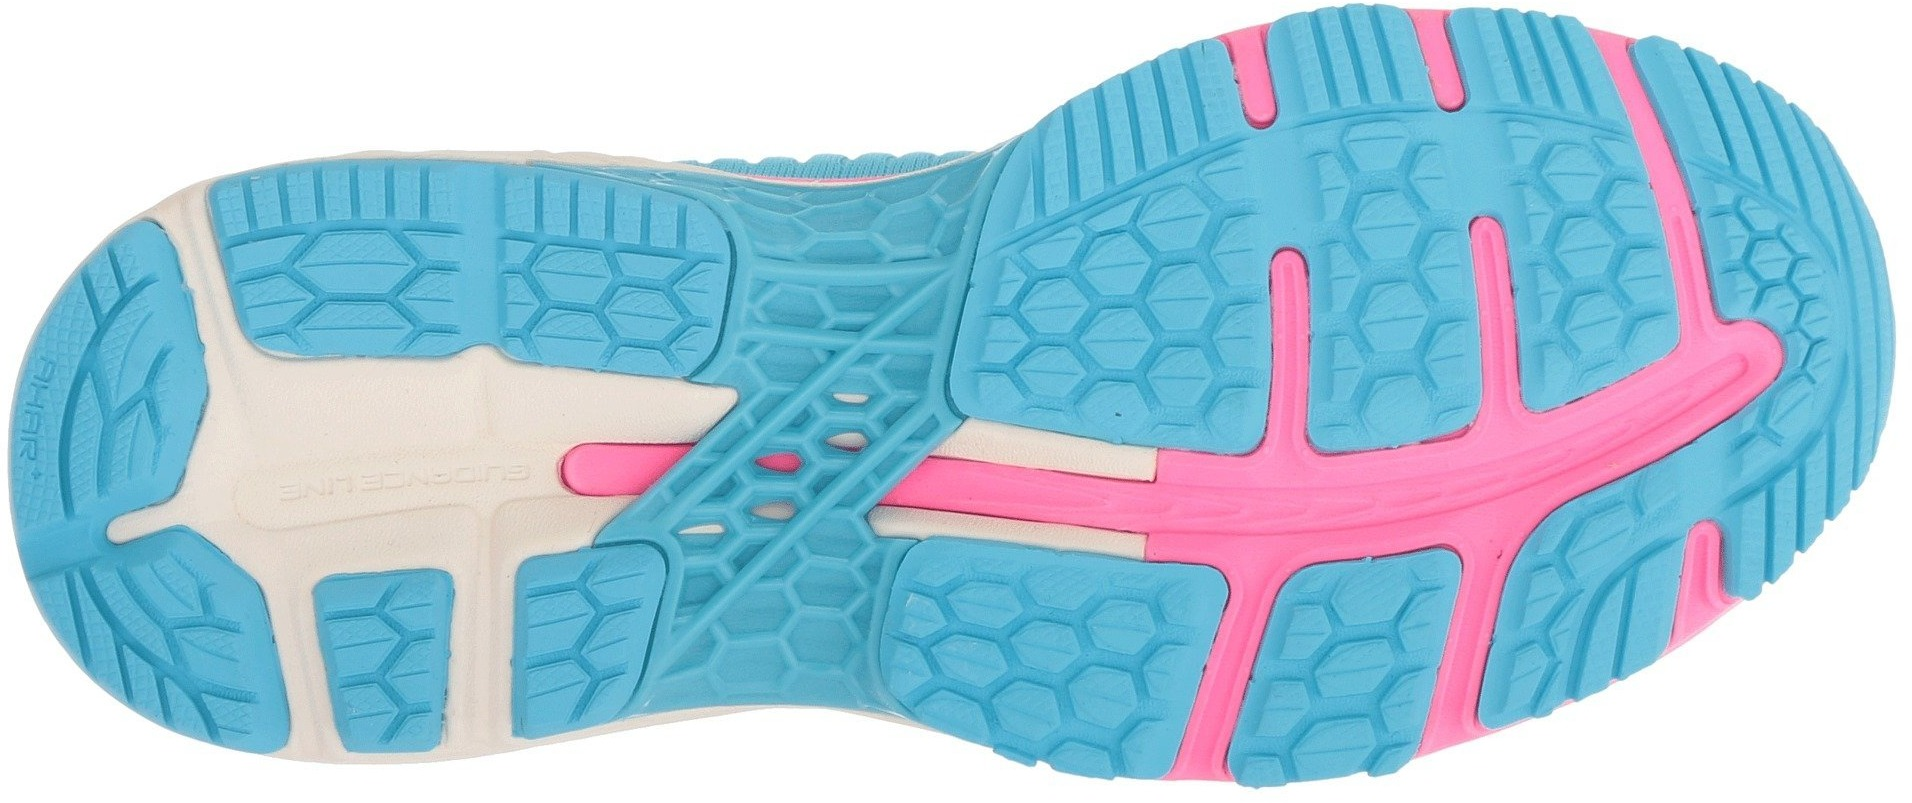line: (309, 336, 619, 613), (1052, 217, 1260, 418), (990, 559, 1188, 757), (26, 563, 221, 754), (1732, 372, 1892, 582), (702, 535, 869, 709), (1673, 30, 1840, 182), (1316, 242, 1472, 402), (291, 221, 443, 366), (1268, 642, 1413, 784), (1521, 236, 1660, 374), (551, 242, 678, 369), (1714, 196, 1844, 320), (1280, 6, 1432, 106)
polygon: (1052, 217, 1260, 418), (990, 559, 1188, 757), (1732, 372, 1892, 582), (9, 353, 191, 534), (702, 535, 869, 709), (1316, 242, 1472, 402), (291, 221, 443, 366), (1268, 642, 1413, 784), (1521, 236, 1660, 374), (551, 242, 678, 369), (1714, 196, 1844, 320)
quad: (1052, 217, 1260, 418), (990, 559, 1188, 757), (26, 563, 221, 754), (1732, 372, 1892, 582), (9, 353, 191, 534), (1316, 242, 1472, 402), (291, 221, 443, 366), (1268, 642, 1413, 784), (1521, 236, 1660, 374), (551, 242, 678, 369), (1714, 196, 1844, 320)
ribbon: (1284, 414, 1497, 604)
text: (309, 336, 619, 613), (9, 353, 191, 534)
triangle: (26, 563, 221, 754)
